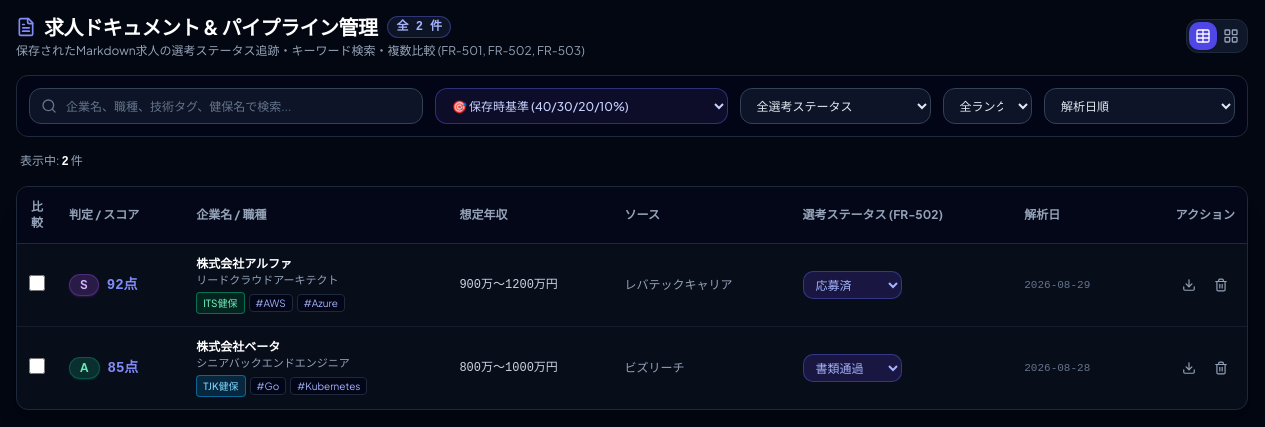
Test: JobDashboard Component › displays total job count and filtered job count properly
This screenshot has width=1265, height=427.
Check: the text "全 2 件" is shown, box [388,16,451,38]
Check: the text "2" is shown, box [62,155,69,169]
# Filter by search query
Type "アルファ" into the field with placeholder "企業名、職種、技術タグ、健保名で検索..." at (226, 106), box [29,88,423,124]
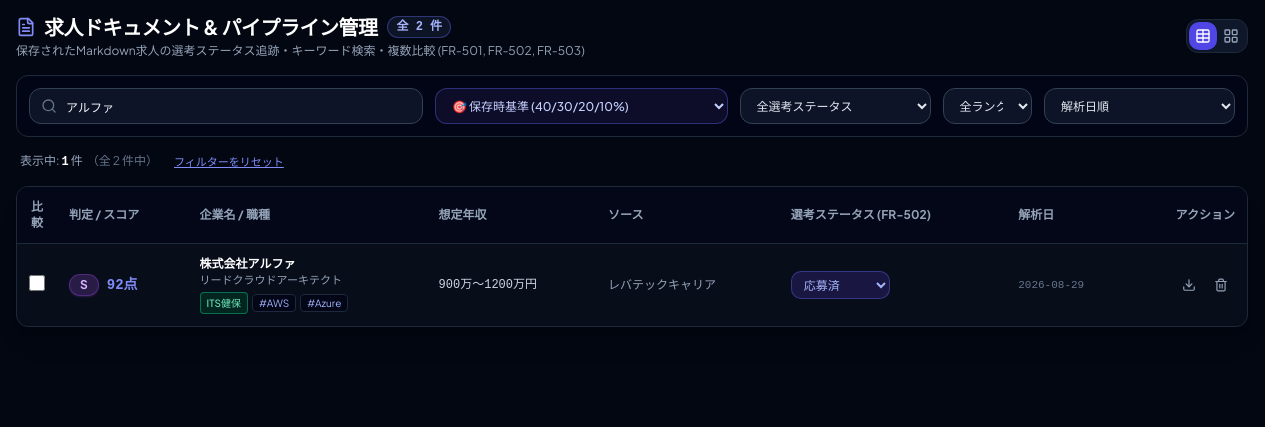
Check: the text "（全 2 件中）" is shown, box [87,153,158,168]
Check: the button "フィルターをリセット" is shown
# Reset filter
Click the button "フィルターをリセット" at (229, 162), box [174,154,284,170]
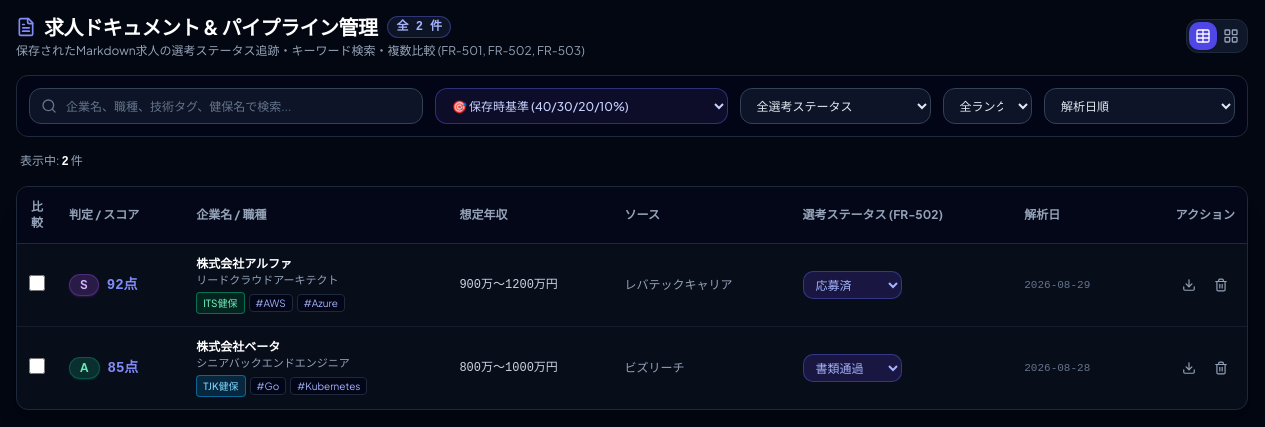
Check: the text "株式会社ベータ" is shown, box [196,339,280,354]
